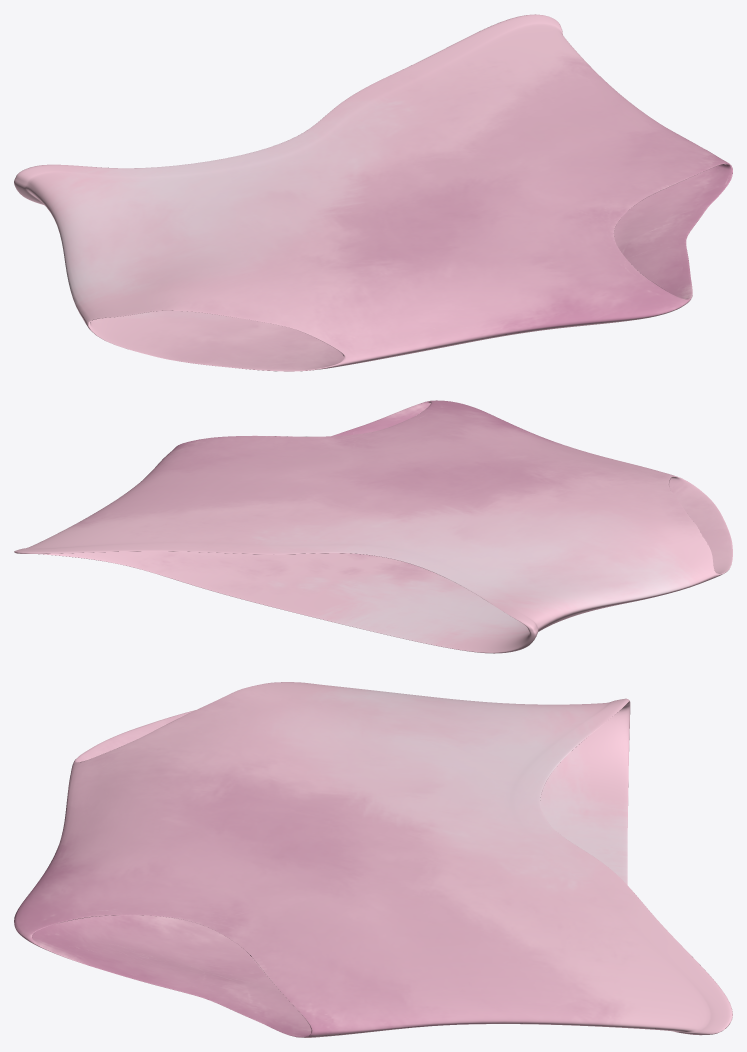
File: gardener_underwear.fbx
The picture shows the model from 3 angles, top to bottom: view 1: azimuth 30°, elevation 25°; view 2: azimuth 150°, elevation 25°; view 3: azimuth 270°, elevation 25°; orthographic projection. The views are drawn at different scales.
Parts seen in each view (by area): view 1: gardener_underwear; view 2: gardener_underwear; view 3: gardener_underwear.
Part boxes in pixels (x1,y1,x2,y2): gardener_underwear: [14, 14, 732, 371]; gardener_underwear: [14, 400, 732, 653]; gardener_underwear: [14, 682, 732, 1037].
Bounding box in the file's own units: 32.45 × 3 × 27.88.
1 material, 1 textured.
